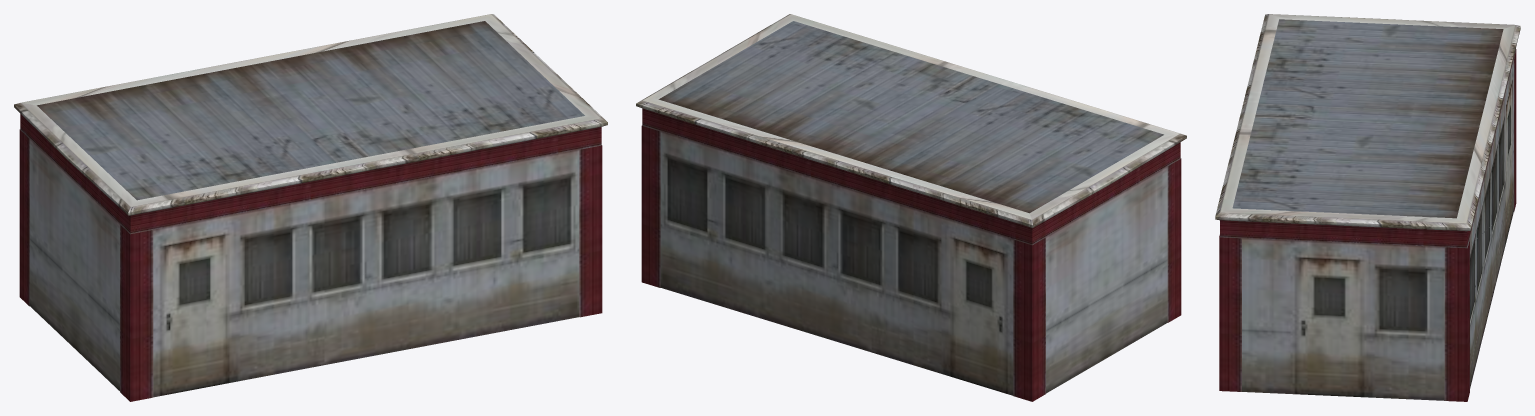
File: site_cabin.glb
3 renders of one model, left to right at view 1: azimuth 30°, elevation 25°; view 2: azimuth 150°, elevation 25°; view 3: azimuth 270°, elevation 25°, orthographic. The views are drawn at different scales.
Parts seen in each view (by area): view 1: Portable_Cabin.001_w; view 2: Portable_Cabin.001_w; view 3: Portable_Cabin.001_w.
Part boxes in pixels (box(x1,y1,x2,y2)): Portable_Cabin.001_w: box(14, 14, 607, 401); Portable_Cabin.001_w: box(636, 14, 1186, 401); Portable_Cabin.001_w: box(1215, 14, 1520, 401).
Size of the model in its own units: 7.46 by 2.9 by 4.51.
1 material, 1 textured.
